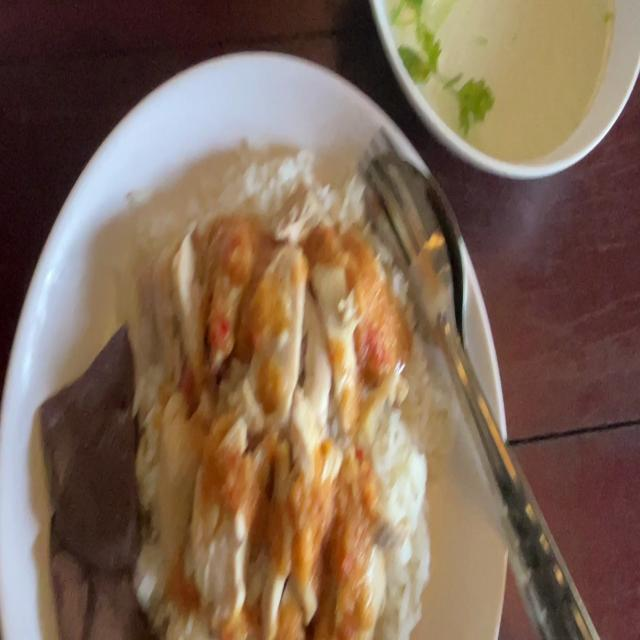boiled_chicken: (162, 232, 390, 624)
boiled_chicken_blood_jelly: (41, 324, 146, 572), (52, 521, 142, 640)
chicken_rice: (39, 154, 424, 640)
